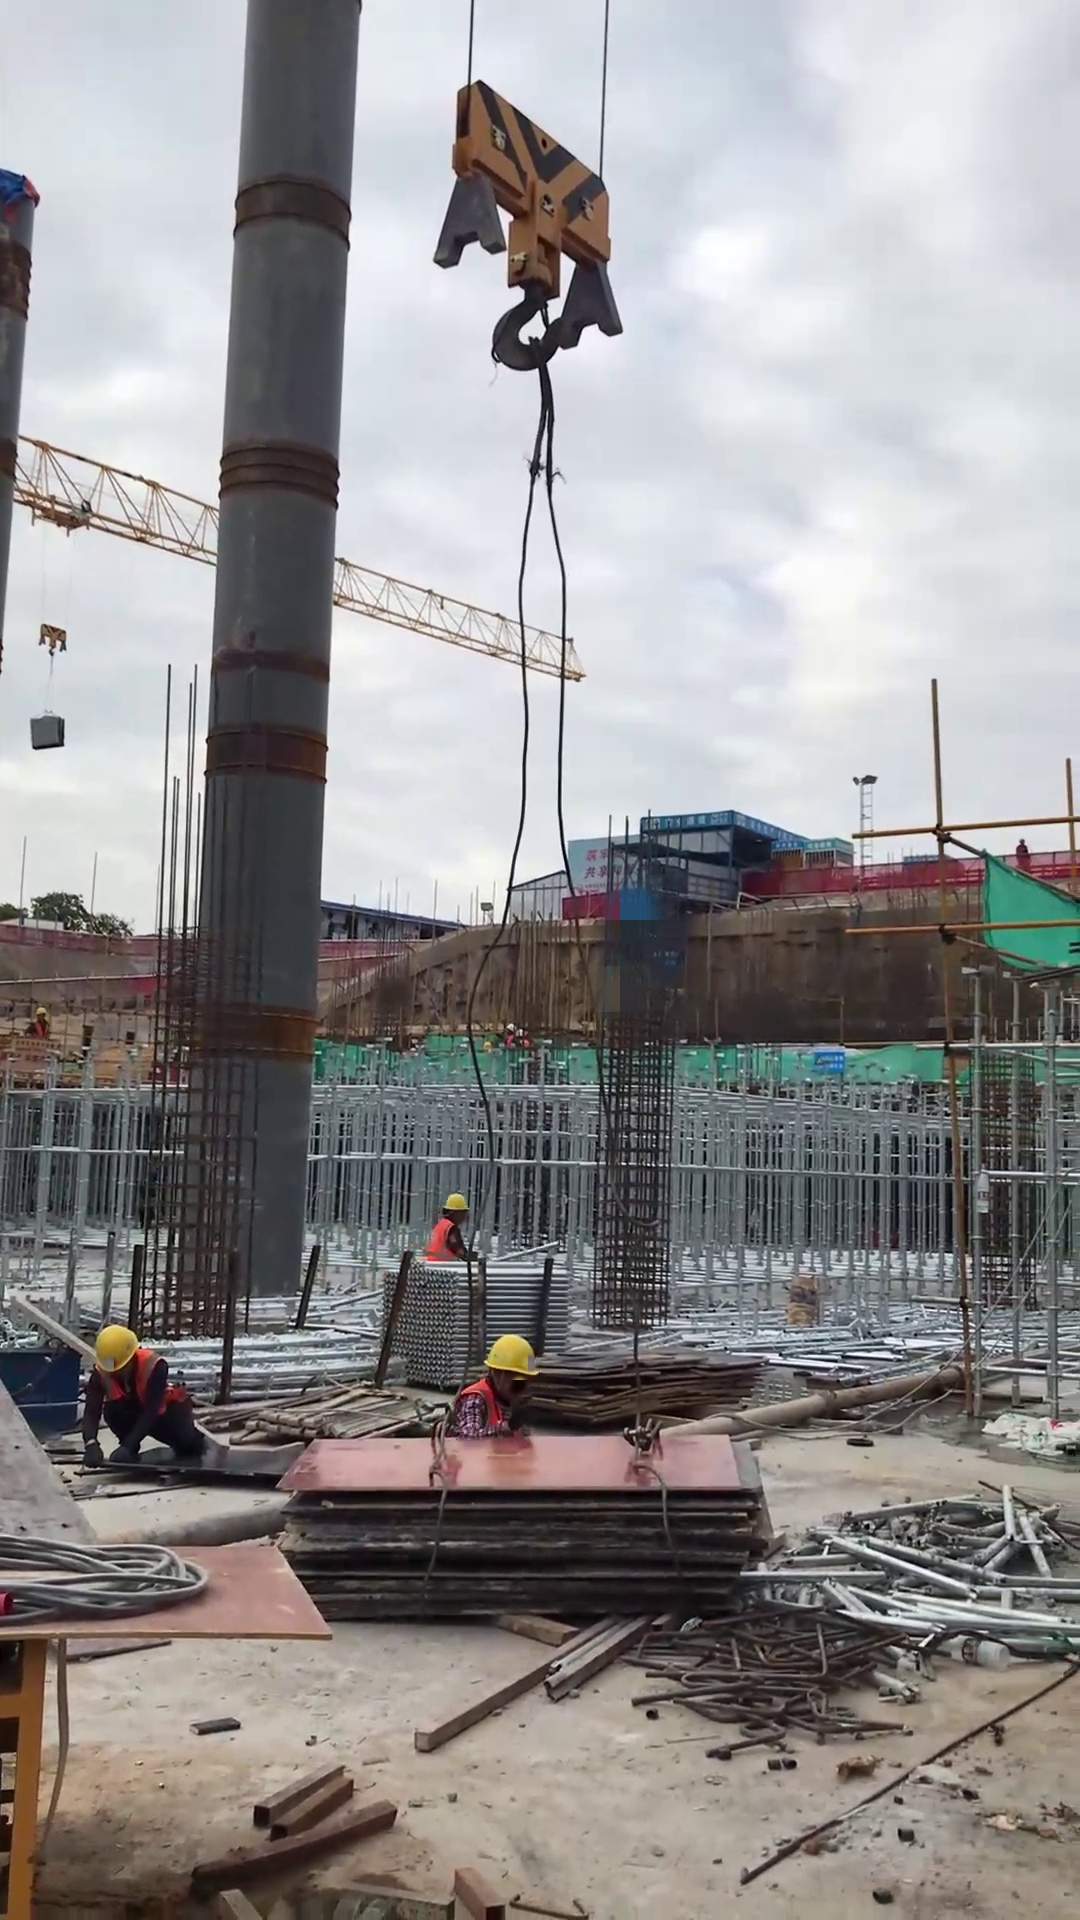board: (279, 1437, 775, 1626), (520, 1338, 764, 1425)
helmet: (484, 1331, 543, 1386), (89, 1323, 142, 1375), (439, 1190, 472, 1221), (33, 1006, 49, 1020), (504, 1020, 516, 1034)
hook: (430, 77, 627, 373), (37, 622, 70, 659)
person: (77, 1322, 218, 1468), (442, 1331, 542, 1440), (424, 1189, 480, 1262), (22, 1005, 52, 1043), (1015, 838, 1032, 872)
scaffold: (376, 1261, 572, 1391), (181, 1324, 378, 1406)
slogan: (644, 809, 855, 855), (583, 843, 639, 882), (811, 1045, 847, 1076)
vest: (93, 1350, 186, 1415), (459, 1375, 505, 1429), (423, 1217, 459, 1260), (31, 1019, 52, 1040)
